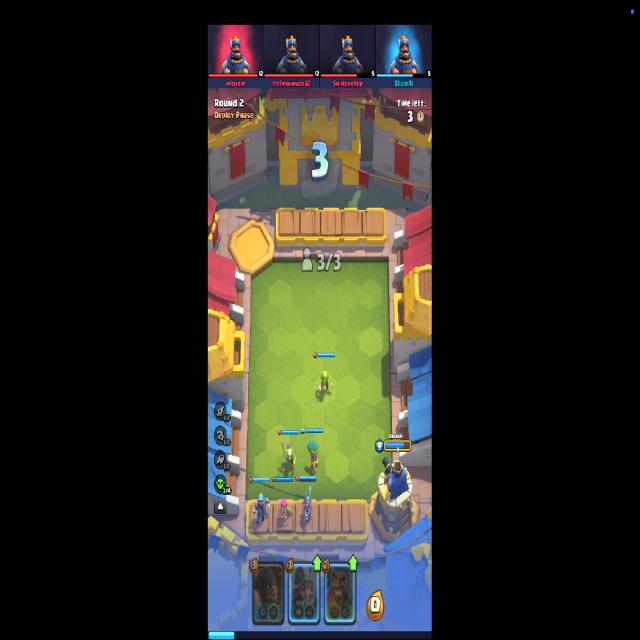archer: (278, 498, 294, 522)
card_executioner: (253, 561, 284, 625)
card_musketeer: (288, 560, 320, 626)
card_wizard: (324, 560, 356, 626)
dart_goblin: (306, 440, 320, 471)
goblin: (316, 370, 333, 395)
musketeer: (303, 485, 313, 521)
spear_goblin: (281, 441, 296, 470)
wizard: (253, 493, 270, 526)
